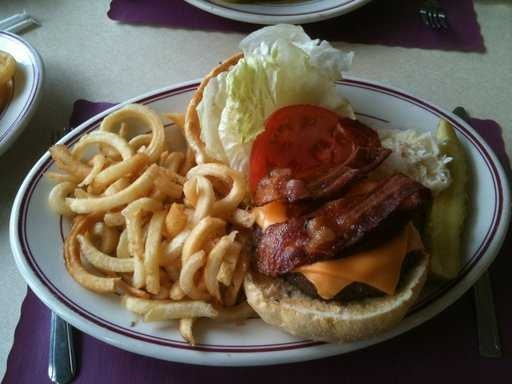hamburger: (222, 41, 391, 326)
